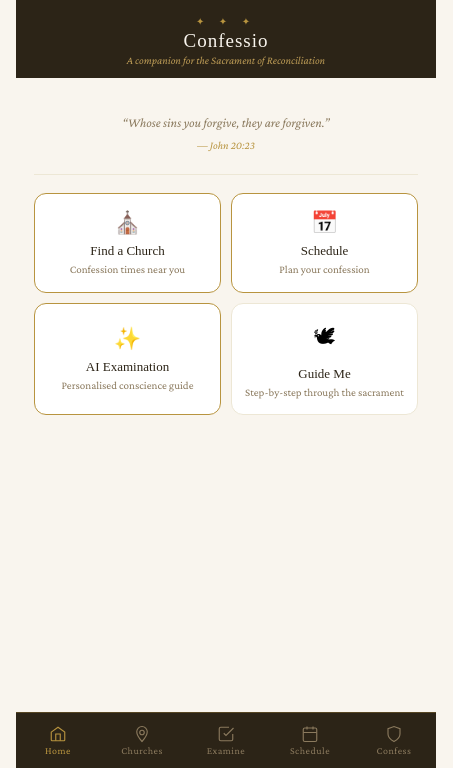
it: App › navigates to ScheduleScreen via BottomNav
Click the button "Schedule". click: (310, 740)
box: [268,713,352,767]
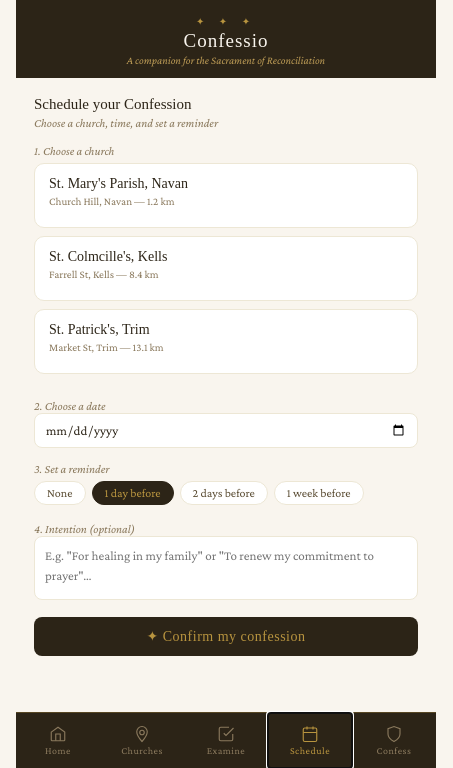
Expected: the heading "Schedule your Confession" is shown, [34,96,192,112]
